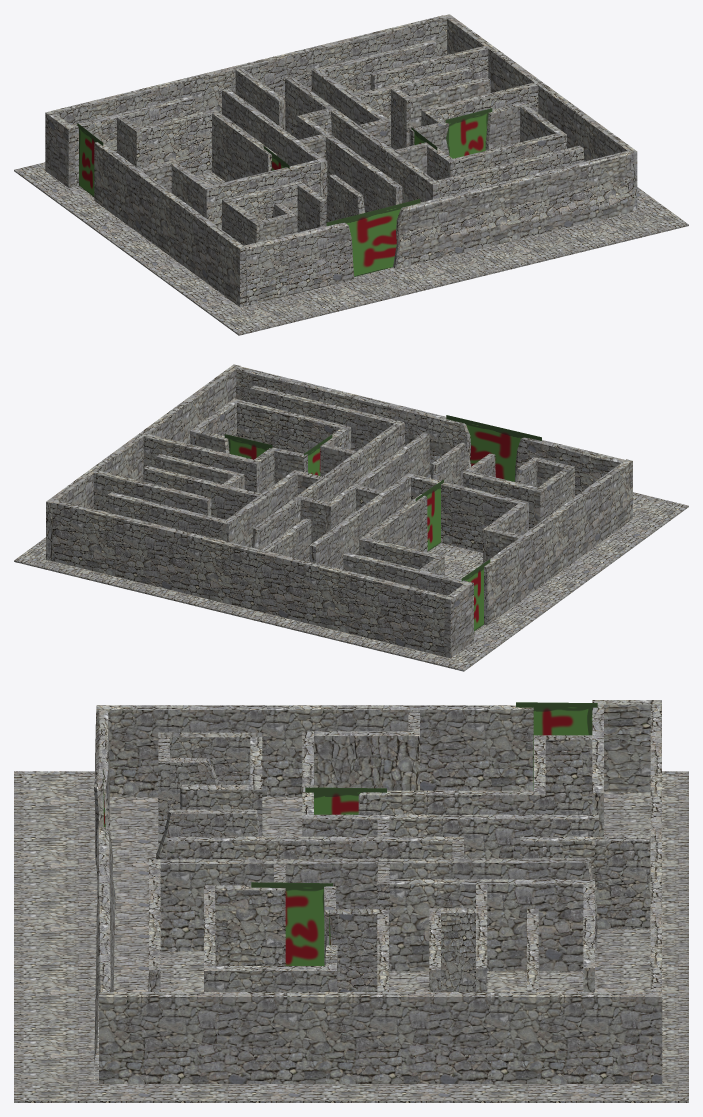
File: Labirint3.gltf
3 views of the same model, one above another, from view 1: azimuth 30°, elevation 25°; view 2: azimuth 150°, elevation 25°; view 3: azimuth 270°, elevation 25° (orthographic). The views are drawn at different scales.
Visible parts, largest first — view 1: tla, wall.035, wall.040, wall.030, wall.01, wall.02, wall.010, wall.026, wall.08, Trigger.001, wall.06, wall.032 (+29 smaller); view 2: wall.030, tla, wall.040, wall.02, wall.035, wall.010, wall.05, wall.016, wall.06, wall.019, wall.08, wall.037 (+29 smaller); view 3: tla, wall.02, wall.040, wall.010, wall.012, wall.06, wall.031, wall.08, wall.04, wall.015, wall.032, wall.028 (+27 smaller).
Boxes of the visible parts, x1=… form: tla: x1=14, y1=147, x2=688, y2=335; wall.035: x1=393, y1=151, x2=632, y2=268; wall.040: x1=94, y1=142, x2=246, y2=307; wall.030: x1=52, y1=15, x2=446, y2=124; wall.01: x1=244, y1=222, x2=354, y2=305; wall.02: x1=444, y1=14, x2=637, y2=210; wall.010: x1=285, y1=76, x2=435, y2=203; wall.026: x1=139, y1=110, x2=211, y2=175; wall.08: x1=297, y1=114, x2=402, y2=212; Trigger.001: x1=326, y1=199, x2=420, y2=276; wall.06: x1=222, y1=89, x2=327, y2=199; wall.032: x1=208, y1=109, x2=276, y2=181; wall.030: x1=52, y1=500, x2=447, y2=656; tla: x1=14, y1=474, x2=688, y2=671; wall.040: x1=484, y1=459, x2=632, y2=625; wall.02: x1=46, y1=364, x2=239, y2=561; wall.035: x1=236, y1=366, x2=471, y2=474; wall.010: x1=251, y1=423, x2=400, y2=549; wall.05: x1=411, y1=474, x2=528, y2=552; wall.016: x1=237, y1=400, x2=350, y2=453; wall.06: x1=309, y1=473, x2=414, y2=569; wall.019: x1=250, y1=385, x2=404, y2=451; wall.08: x1=324, y1=433, x2=429, y2=533; wall.037: x1=93, y1=470, x2=211, y2=515; tla: x1=14, y1=771, x2=688, y2=1102; wall.02: x1=99, y1=992, x2=662, y2=1083; wall.040: x1=96, y1=705, x2=533, y2=796; wall.010: x1=160, y1=858, x2=597, y2=951; wall.012: x1=389, y1=879, x2=594, y2=971; wall.06: x1=302, y1=814, x2=598, y2=858; wall.031: x1=520, y1=836, x2=650, y2=928; wall.08: x1=167, y1=836, x2=463, y2=859; wall.04: x1=314, y1=731, x2=419, y2=790; wall.015: x1=215, y1=885, x2=285, y2=965; wall.032: x1=358, y1=790, x2=545, y2=814; wall.028: x1=592, y1=700, x2=661, y2=792.
Bounding box in the file's own units: 407 × 56.22 × 353.
Materials: 7 (7 with a texture image).
